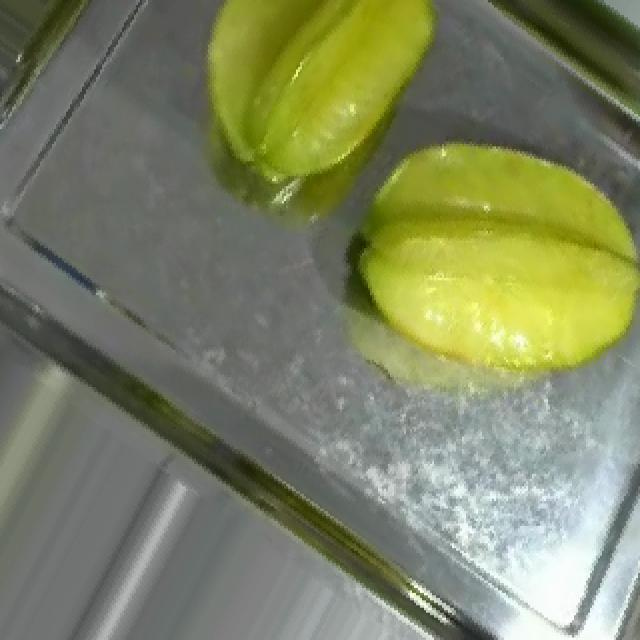fruit: (314, 102, 640, 449), (136, 0, 478, 228), (460, 0, 640, 139)
